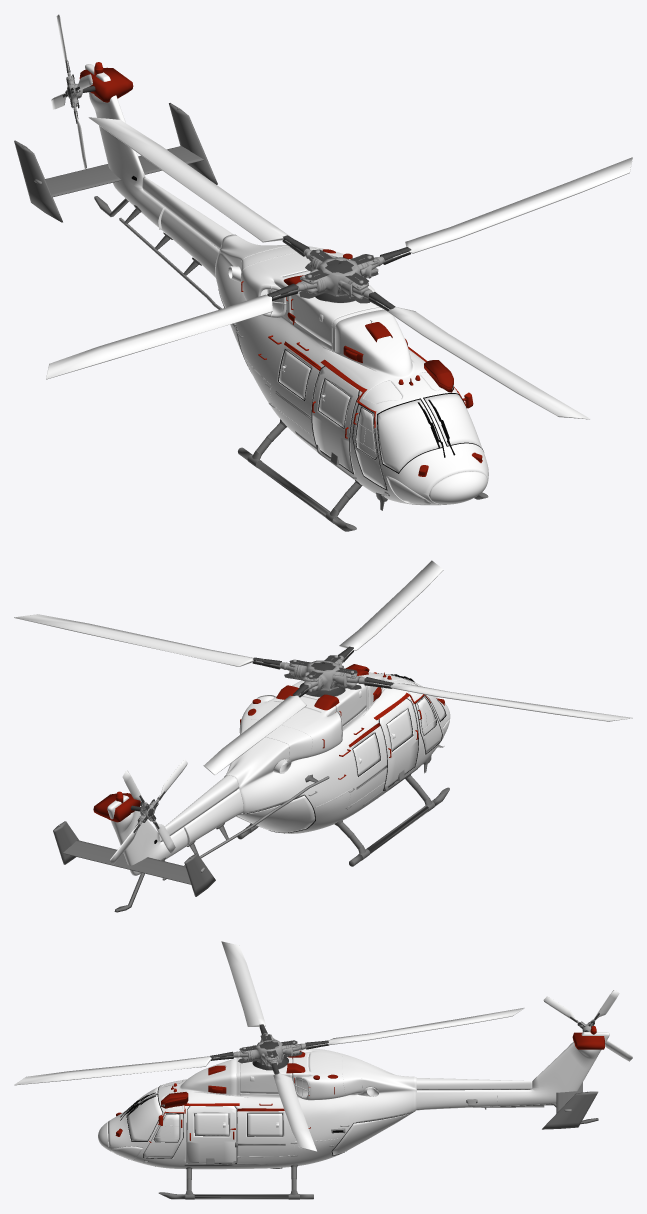
Rendered from ALH Dhruv Helicopter.glb.
The picture shows the model from 3 angles, top to bottom: view 1: azimuth 30°, elevation 25°; view 2: azimuth 150°, elevation 25°; view 3: azimuth 270°, elevation 25°; orthographic projection. The views are drawn at different scales.
Visible parts, largest first — view 1: helicopter, helicopter.004, heli_base.002, blade.001, blade.003, blade, blade.002, Plane.001, helicopter.008, Cylinder, Plane, heli_base.003 (+8 smaller); view 2: helicopter, heli_base.002, blade, blade.001, blade.002, blade.003, Plane, helicopter.008, helicopter.007, Cylinder, Plane.001, heli_base.003 (+7 smaller); view 3: helicopter, heli_base.002, helicopter.008, blade.002, blade.003, blade.001, blade, heli_base.003, Cylinder, helicopter.004, Plane.001, helicopter.007 (+8 smaller).
Boxes of the visible parts, left/top/right/bottom form: helicopter: left=215, top=234, right=488, bottom=505; helicopter.004: left=377, top=394, right=482, bottom=472; heli_base.002: left=85, top=64, right=219, bottom=277; blade.001: left=88, top=117, right=290, bottom=243; blade.003: left=46, top=294, right=280, bottom=379; blade: left=393, top=157, right=632, bottom=257; blade.002: left=376, top=301, right=589, bottom=419; Plane.001: left=14, top=103, right=217, bottom=222; helicopter.008: left=312, top=366, right=358, bottom=472; Cylinder: left=238, top=419, right=488, bottom=531; Plane: left=45, top=146, right=203, bottom=196; heli_base.003: left=142, top=177, right=233, bottom=249; helicopter: left=224, top=672, right=450, bottom=833; heli_base.002: left=107, top=789, right=243, bottom=875; blade: left=14, top=614, right=263, bottom=666; blade.001: left=203, top=693, right=306, bottom=774; blade.002: left=339, top=560, right=443, bottom=655; blade.003: left=374, top=683, right=632, bottom=721; Plane: left=63, top=840, right=191, bottom=884; helicopter.008: left=379, top=698, right=418, bottom=789; helicopter.007: left=236, top=795, right=314, bottom=832; Cylinder: left=237, top=774, right=449, bottom=866; Plane.001: left=53, top=821, right=215, bottom=896; heli_base.003: left=159, top=775, right=238, bottom=841; helicopter: left=98, top=1048, right=416, bottom=1169; heli_base.002: left=416, top=1032, right=609, bottom=1110; helicopter.008: left=187, top=1106, right=236, bottom=1163; blade.002: left=14, top=1056, right=219, bottom=1085; blade.003: left=221, top=941, right=265, bottom=1026; blade.001: left=313, top=1007, right=524, bottom=1045; blade: left=273, top=1072, right=316, bottom=1151; heli_base.003: left=416, top=1078, right=532, bottom=1090; Cylinder: left=158, top=1164, right=313, bottom=1199; helicopter.004: left=127, top=1087, right=162, bottom=1141; Plane.001: left=542, top=1091, right=598, bottom=1129; helicopter.007: left=332, top=1111, right=414, bottom=1155.
Bounding box in the file's own units: 14.12 × 5.47 × 17.06.
Materials: 25 (3 with a texture image).
